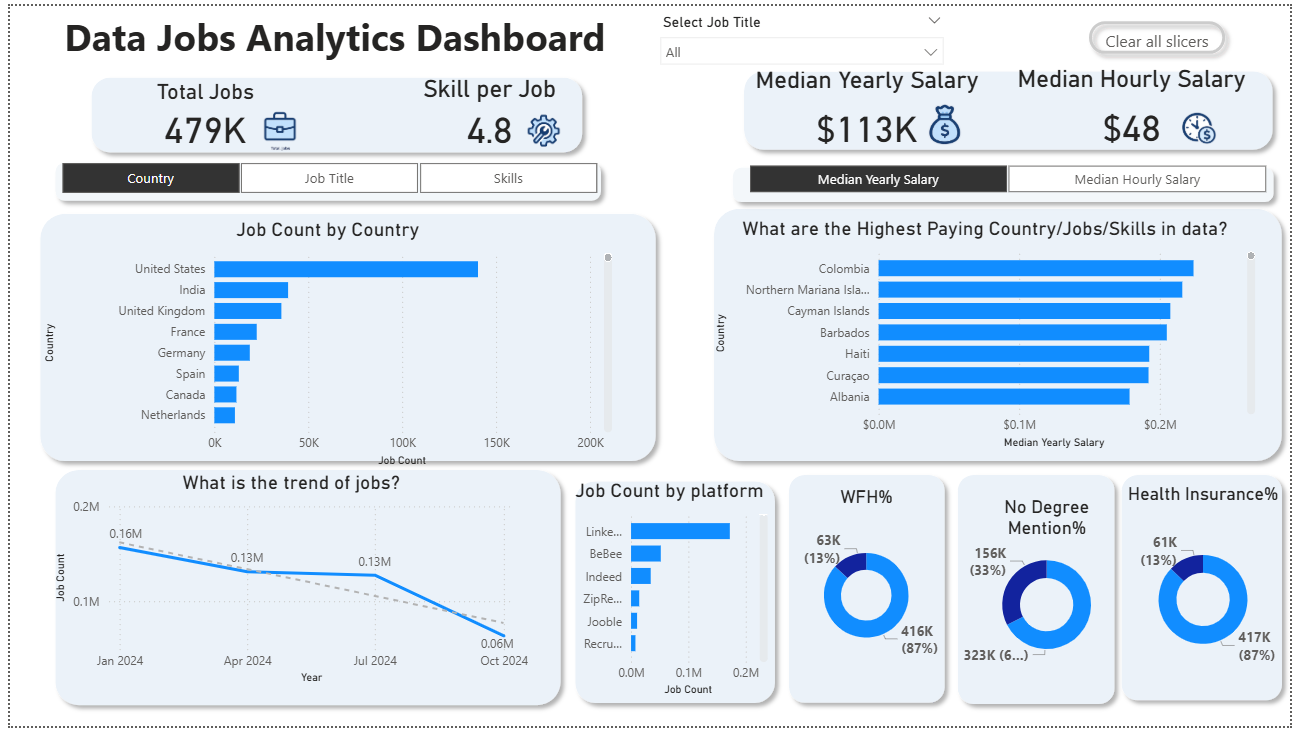

What the dashboard file says about the page in this screenshot:
{"tool":"powerbi","page":{"name":"Dashboard","canvas":[1280,720],"ordinal":0},"visuals":[{"type":"group","id":"g1","title":"Background","box":[20.8,56.3,1259.5,651.8],"z":0},{"type":"shape","box":[72.2,62.4,508.7,92.9],"z":0,"group":"g1"},{"type":"shape","box":[725.2,56.3,546.6,96.6],"z":1000,"group":"g1"},{"type":"shape","box":[20.8,199.1,633.4,265.4],"z":2000,"group":"g1"},{"type":"card","title":"Total Jobs","fields":{"Values":["_Measures.Job Count"]},"box":[72.1,72.1,245.8,94.2],"z":3000},{"type":"shape","box":[35.7,454.6,523.4,253.1],"z":3000,"group":"g1"},{"type":"card","title":"Skill per Job","fields":{"Values":["_Measures.Skill per Job"]},"box":[352.2,68.5,254.3,78.3],"z":4000},{"type":"shape","box":[556.4,465.9,217.7,239.7],"z":4000,"group":"g1"},{"type":"card","title":"Median Yearly Salary","fields":{"Values":["_Measures.Median Yearly Salary"]},"box":[725.1,59.9,264.1,92.9],"z":5000},{"type":"shape","box":[938.2,460.6,174.9,247],"z":5000,"group":"g1"},{"type":"card","title":"Median Hourly Salary","fields":{"Values":["_Measures.Median Hourly Salary"]},"box":[1002.7,58.7,238.5,92.9],"z":6000},{"type":"shape","box":[769.4,460.6,173.6,245.8],"z":6000,"group":"g1"},{"type":"slicer","fields":{"Values":["Select Category.Select Category"]},"box":[25.7,150.4,584.5,44],"z":7000},{"type":"shape","box":[1102,460.6,178.5,243.3],"z":7000,"group":"g1"},{"type":"shape","box":[694.8,193.2,585.7,270.2],"z":8000,"group":"g1"},{"type":"barChart","fields":{"Category":["job_postings_fact.job_country"],"Y":["_Measures.Job Count"]},"box":[28.4,212.1,578.5,252.8],"z":8000},{"type":"shape","box":[35.5,148,563.7,56.3],"z":9000,"group":"g1"},{"type":"slicer","fields":{"Values":["Select Measure 2.Select Measure"]},"box":[714.1,152.9,566.2,34.2],"z":9000},{"type":"shape","box":[712.9,152.9,558.8,52.6],"z":10000,"group":"g1"},{"type":"barChart","title":"What are the  Highest Paying Country/Jobs/Skills in data?","fields":{"Y":["_Measures.Median Yearly Salary"],"Category":["job_postings_fact.job_country"]},"box":[699.5,211.6,550.3,236],"z":10000},{"type":"lineChart","title":"What is the trend of jobs?","fields":{"Category":["job_postings_fact.job_posted_date.Variation.Date Hierarchy.Year","job_postings_fact.job_posted_date.Variation.Date Hierarchy.Quarter","job_postings_fact.job_posted_date.Variation.Date Hierarchy.Month","job_postings_fact.job_posted_date.Variation.Date Hierarchy.Day"],"Y":["_Measures.Job Count"]},"box":[40.4,464.7,483,217.7],"z":11000},{"type":"donutChart","title":"WFH%","fields":{"Category":["job_postings_fact.job_work_from_home"],"Y":["_Measures.Job Count"]},"box":[780.2,480.6,152.9,198.1],"z":12000},{"type":"donutChart","title":"No Degree Mention%","fields":{"Y":["_Measures.Job Count"],"Category":["job_postings_fact.job_no_degree_mention"]},"box":[951.4,490.4,171.2,176.1],"z":13000},{"type":"donutChart","title":"Health Insurance%","fields":{"Y":["_Measures.Job Count"],"Category":["job_postings_fact.job_health_insurance"]},"box":[1112.8,476.9,161.4,211.6],"z":14000},{"type":"barChart","title":"Job Count by platform","fields":{"Y":["_Measures.Job Count"],"Category":["job_postings_fact.job_via"]},"box":[556.4,473.2,206.7,221.3],"z":15000},{"type":"slicer","fields":{"Values":["job_postings_fact.job_title_short"]},"box":[640.1,2.5,303.4,62.9],"z":16000},{"type":"actionButton","box":[1070.6,6.2,154.2,50.6],"z":17000},{"type":"image","box":[242.1,102.7,55,44],"z":18000},{"type":"image","box":[508.7,107.6,50.1,35.5],"z":20000},{"type":"image","box":[918.3,96.6,33,45.2],"z":21000},{"type":"image","box":[1171.5,99,35.5,46.5],"z":22000},{"type":"textbox","box":[40.4,0,569.8,59.9],"z":22001}]}

Visuals, with their boxes in screenshot pixels (x1, y1, x2, y2), scaled from the page's 1280x720 canvas onto the 1305x733 screenshot:
"Background" group: <region>21, 57, 1304, 721</region>
shape: <region>74, 64, 592, 158</region>
shape: <region>739, 57, 1297, 156</region>
shape: <region>21, 203, 667, 473</region>
"Total Jobs" card: <region>74, 73, 324, 169</region>
shape: <region>36, 463, 570, 720</region>
"Skill per Job" card: <region>359, 70, 618, 149</region>
shape: <region>567, 474, 789, 718</region>
"Median Yearly Salary" card: <region>739, 61, 1009, 156</region>
shape: <region>957, 469, 1135, 720</region>
"Median Hourly Salary" card: <region>1022, 60, 1265, 154</region>
shape: <region>784, 469, 961, 719</region>
slicer - Select Category.Select Category: <region>26, 153, 622, 198</region>
shape: <region>1124, 469, 1304, 717</region>
shape: <region>708, 197, 1304, 472</region>
barChart - job_postings_fact.job_country x _Measures.Job Count: <region>29, 216, 619, 473</region>
shape: <region>36, 151, 611, 208</region>
slicer - Select Measure 2.Select Measure: <region>728, 156, 1304, 190</region>
shape: <region>727, 156, 1297, 209</region>
"What are the  Highest Paying Country/Jobs/Skills in data?" barChart: <region>713, 215, 1274, 456</region>
"What is the trend of jobs?" lineChart: <region>41, 473, 534, 695</region>
"WFH%" donutChart: <region>795, 489, 951, 691</region>
"No Degree Mention%" donutChart: <region>970, 499, 1145, 679</region>
"Health Insurance%" donutChart: <region>1135, 486, 1299, 701</region>
"Job Count by platform" barChart: <region>567, 482, 778, 707</region>
slicer - job_postings_fact.job_title_short: <region>653, 3, 962, 67</region>
actionButton: <region>1092, 6, 1249, 58</region>
image: <region>247, 105, 303, 149</region>
image: <region>519, 110, 570, 146</region>
image: <region>936, 98, 970, 144</region>
image: <region>1194, 101, 1231, 148</region>
textbox: <region>41, 0, 622, 61</region>
